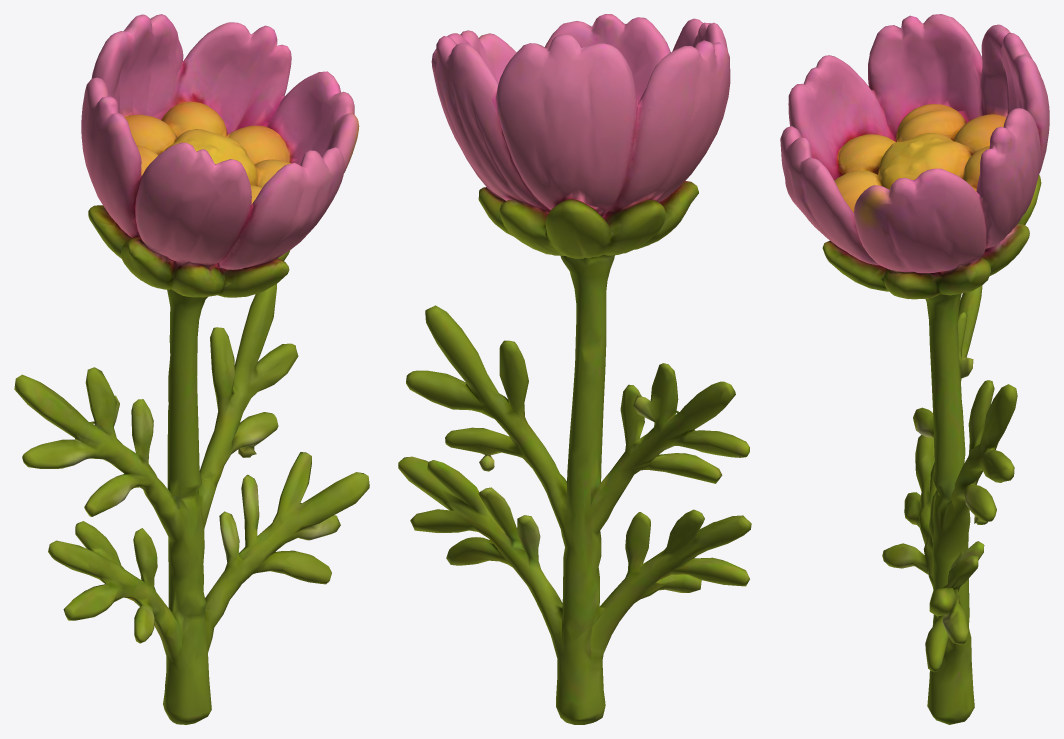
The model's file is cosmos_s4.glb.
3 renders of one model, left to right at view 1: azimuth 30°, elevation 25°; view 2: azimuth 150°, elevation 25°; view 3: azimuth 270°, elevation 25°, orthographic. The views are drawn at different scales.
Bounding box in the file's own units: 0.519 × 1 × 0.3598.
Materials: 1 (1 with a texture image).
